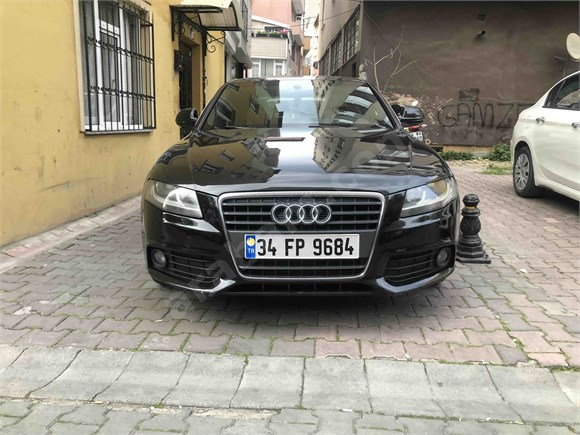audi: (267, 200, 336, 226)
